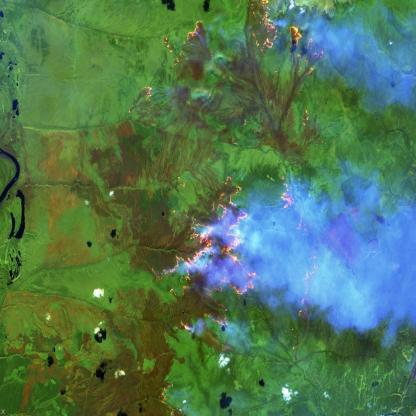fire: (126, 0, 329, 416)
